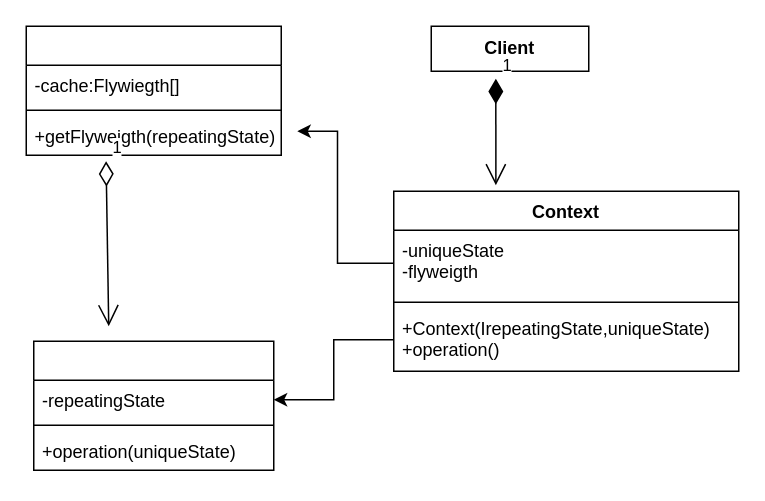
The diagram is 765 pixels wide and 501 high, and some of its shapes have lost their labels. The box of each missing label's shape, as (x1, y1, x2, y2) in pixels:
FlyweightFactory: (25, 25, 281, 155)
Flyweigth: (32, 340, 274, 470)
